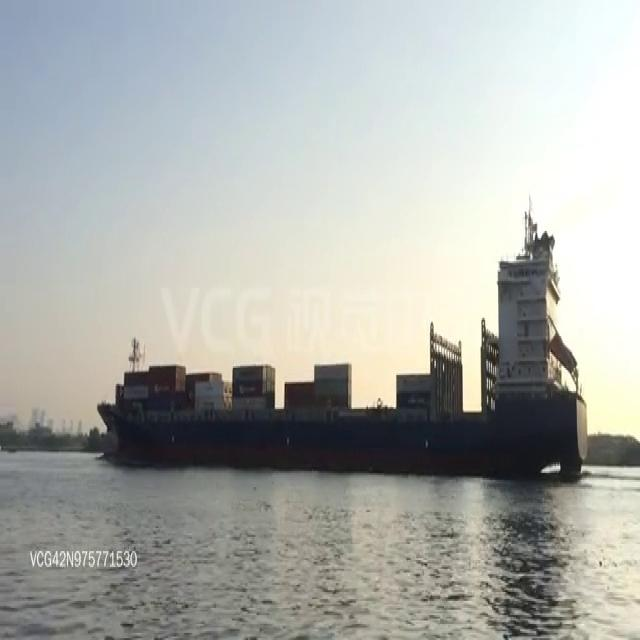cargoship: (110, 264, 580, 487)
